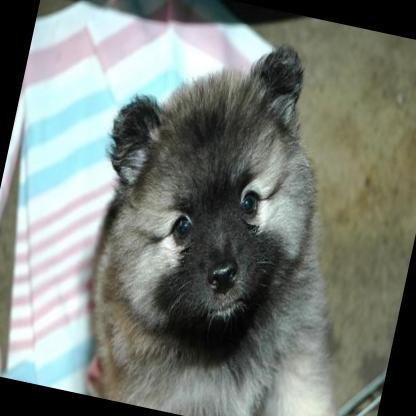keeshond: (54, 12, 416, 416)
